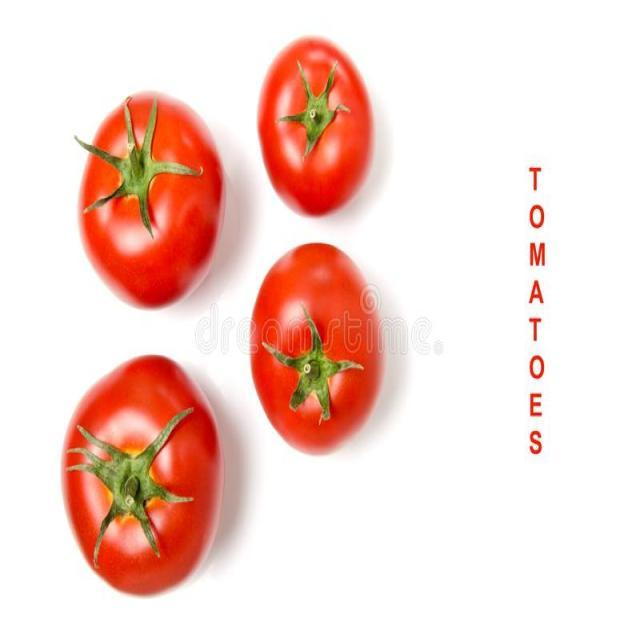kirmizi: (58, 28, 400, 586)
